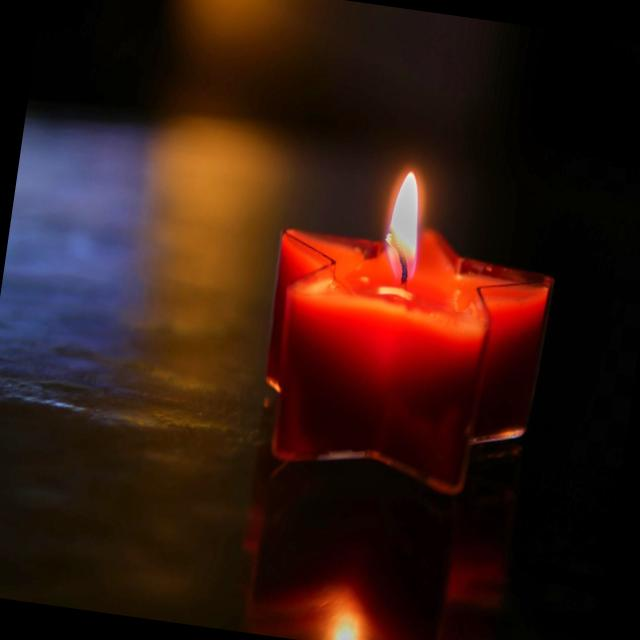Fire_Save: (248, 152, 566, 506)
